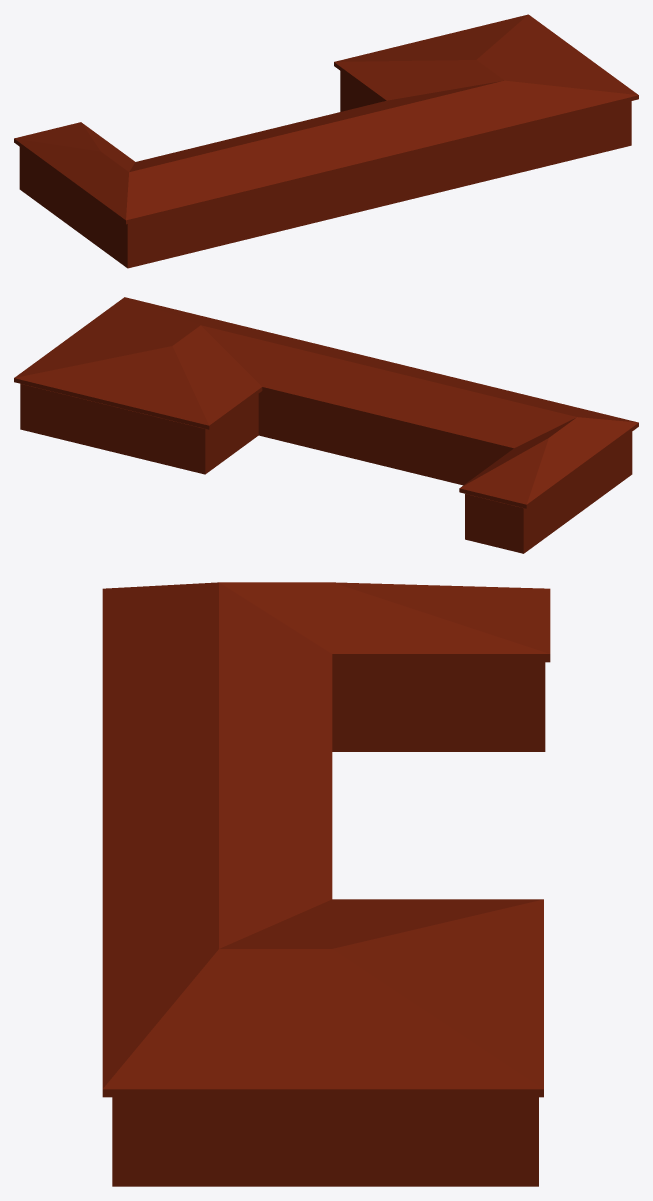
The model's file is Building_11.fbx.
The picture shows the model from 3 angles, top to bottom: view 1: azimuth 30°, elevation 25°; view 2: azimuth 150°, elevation 25°; view 3: azimuth 270°, elevation 25°; orthographic projection. The views are drawn at different scales.
Visible parts, largest first — view 1: Building_11; view 2: Building_11; view 3: Building_11.
Part boxes in pixels (x1,y1,x2,y2): Building_11: [14, 14, 638, 268]; Building_11: [14, 297, 638, 553]; Building_11: [102, 582, 550, 1186].
Bounding box in the file's own units: 4720 × 615 × 1784.
